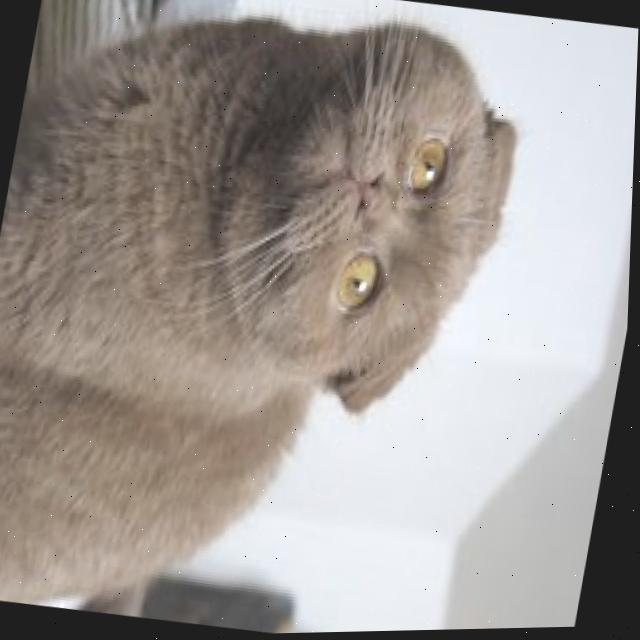Scottish Fold: (0, 0, 552, 640)
